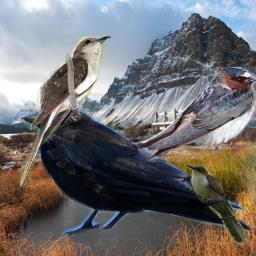Crow: (15, 104, 255, 237)
Cuckoo: (20, 35, 111, 188), (185, 163, 247, 244)
Swallow: (138, 67, 256, 162)
